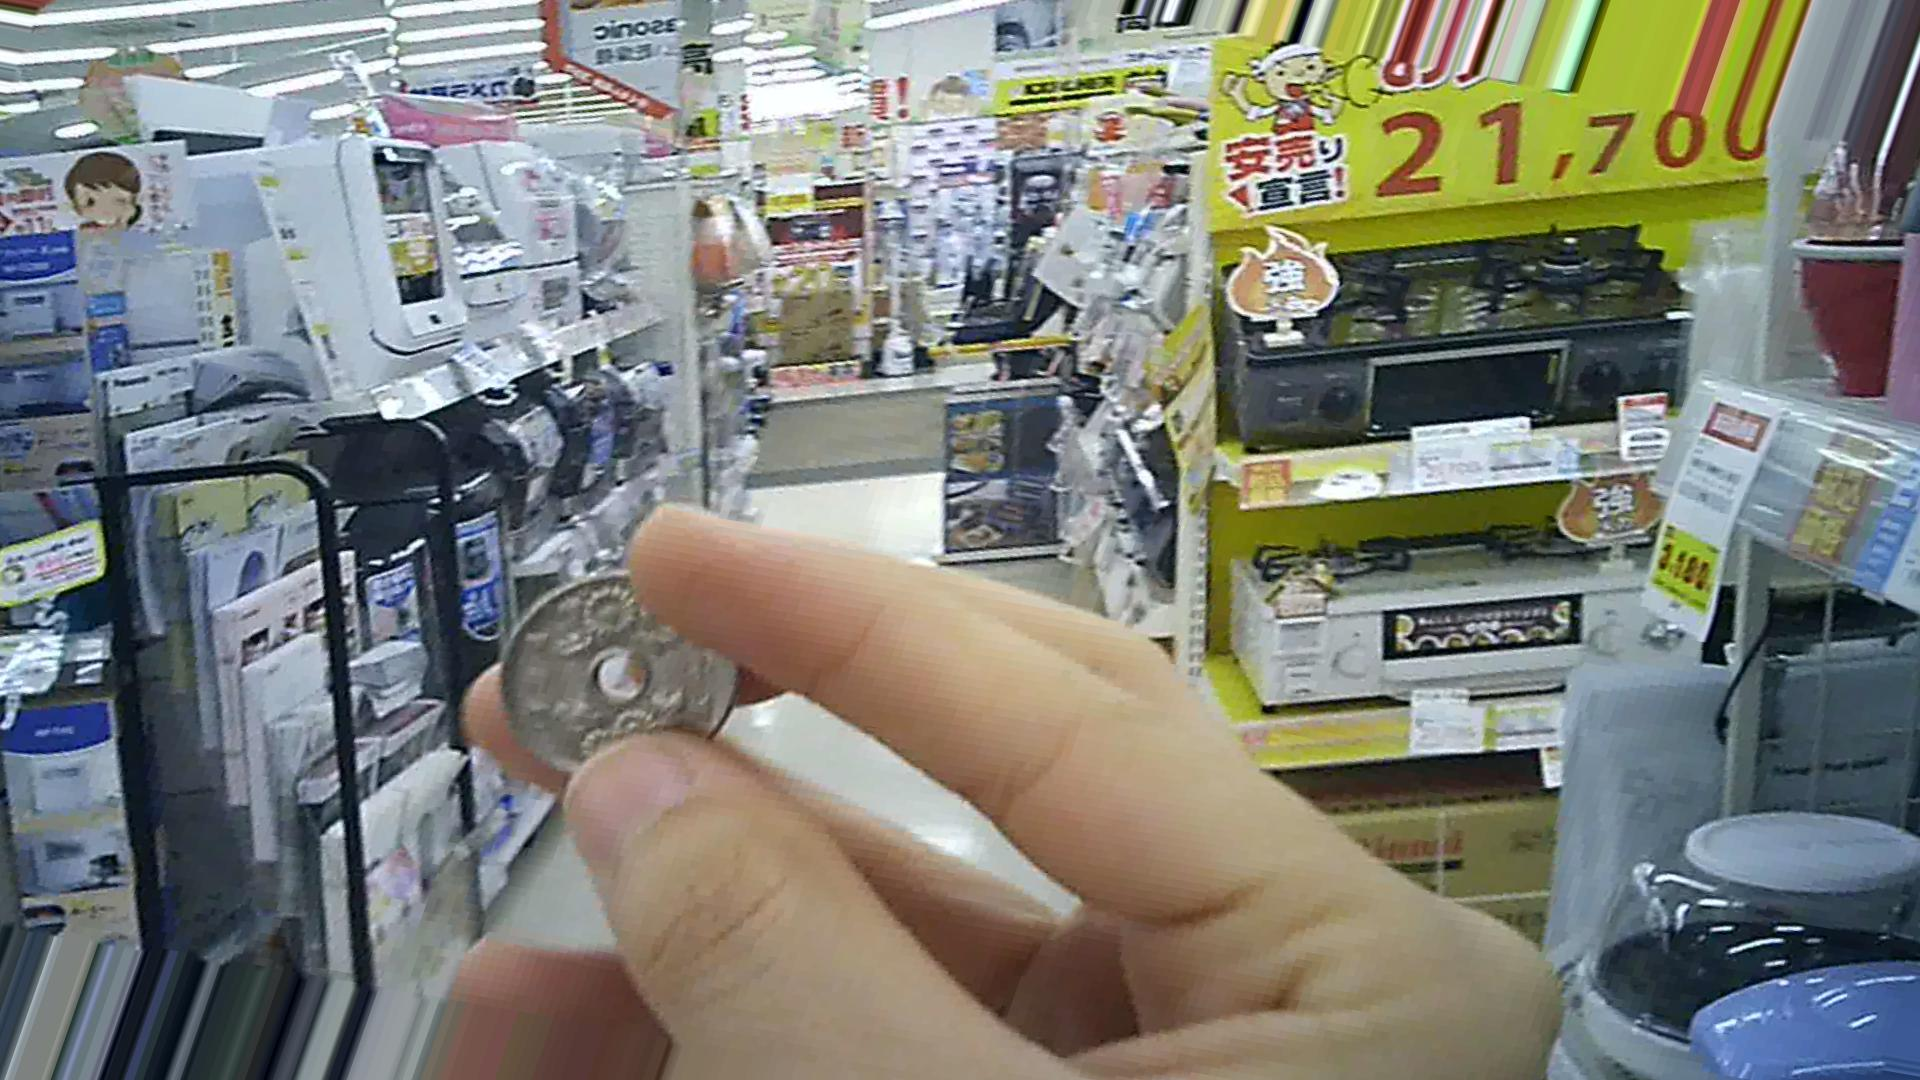50 Yen: (502, 574, 742, 766)
